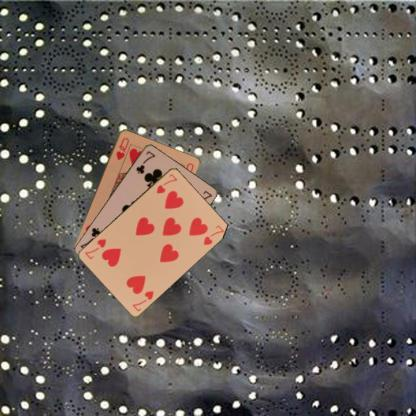7c: (134, 148, 156, 175)
7h: (130, 288, 155, 312), (154, 171, 178, 195)
Qh: (113, 135, 130, 161)
